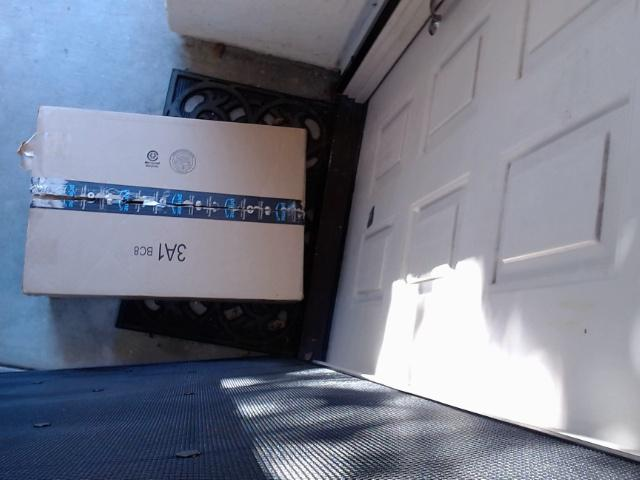box: (12, 76, 379, 322)
